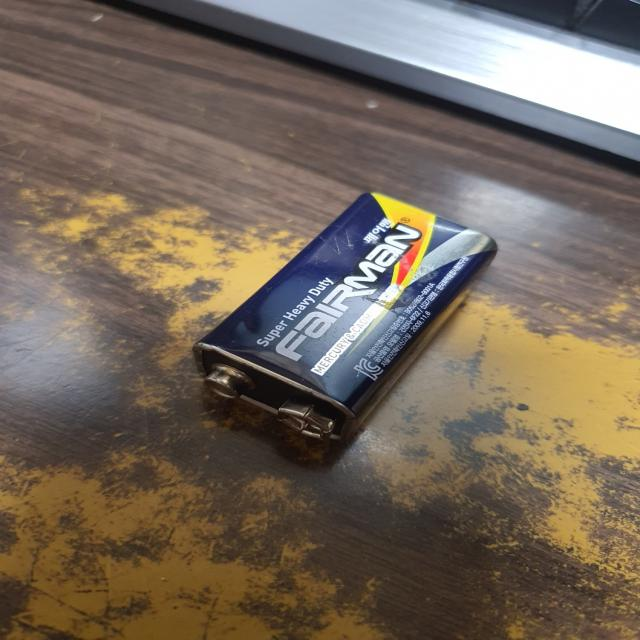battery-etc-etc: (174, 190, 501, 450)
